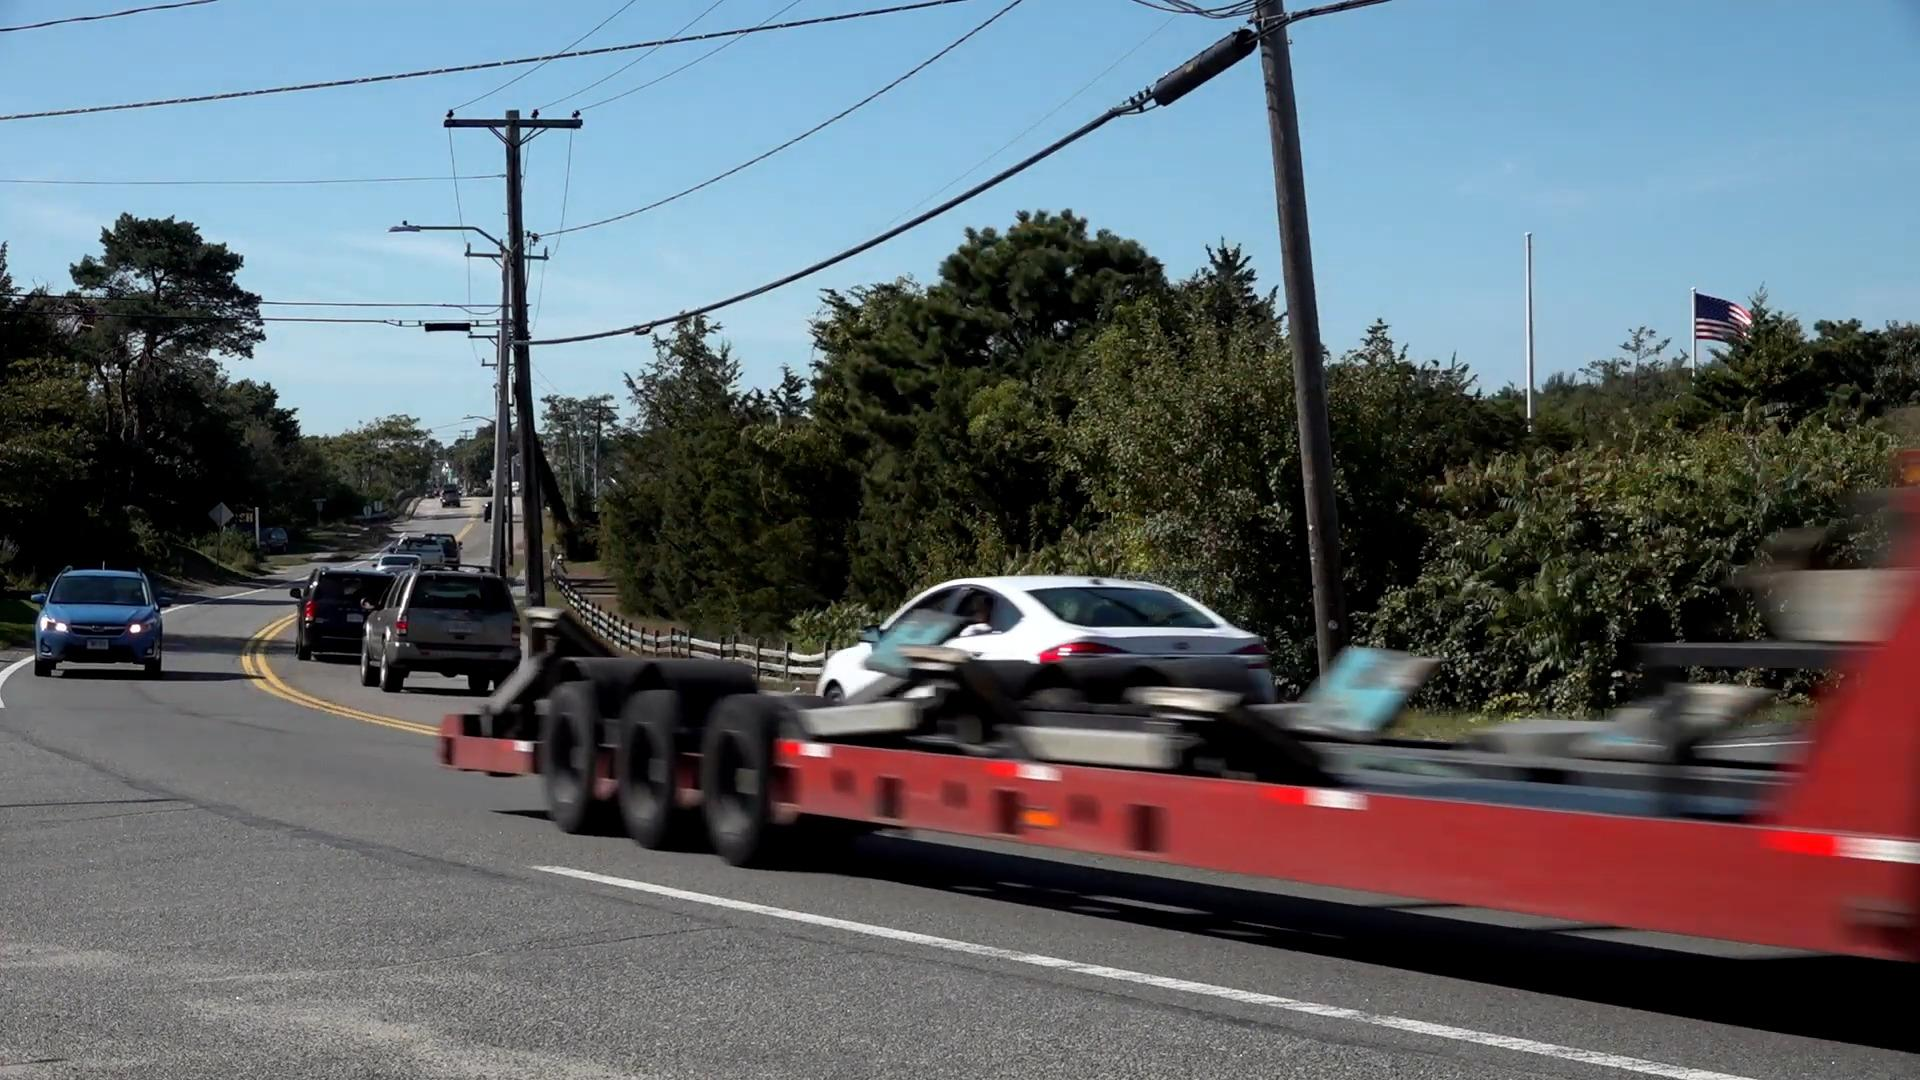suv: (367, 563, 521, 702), (36, 560, 167, 674)
